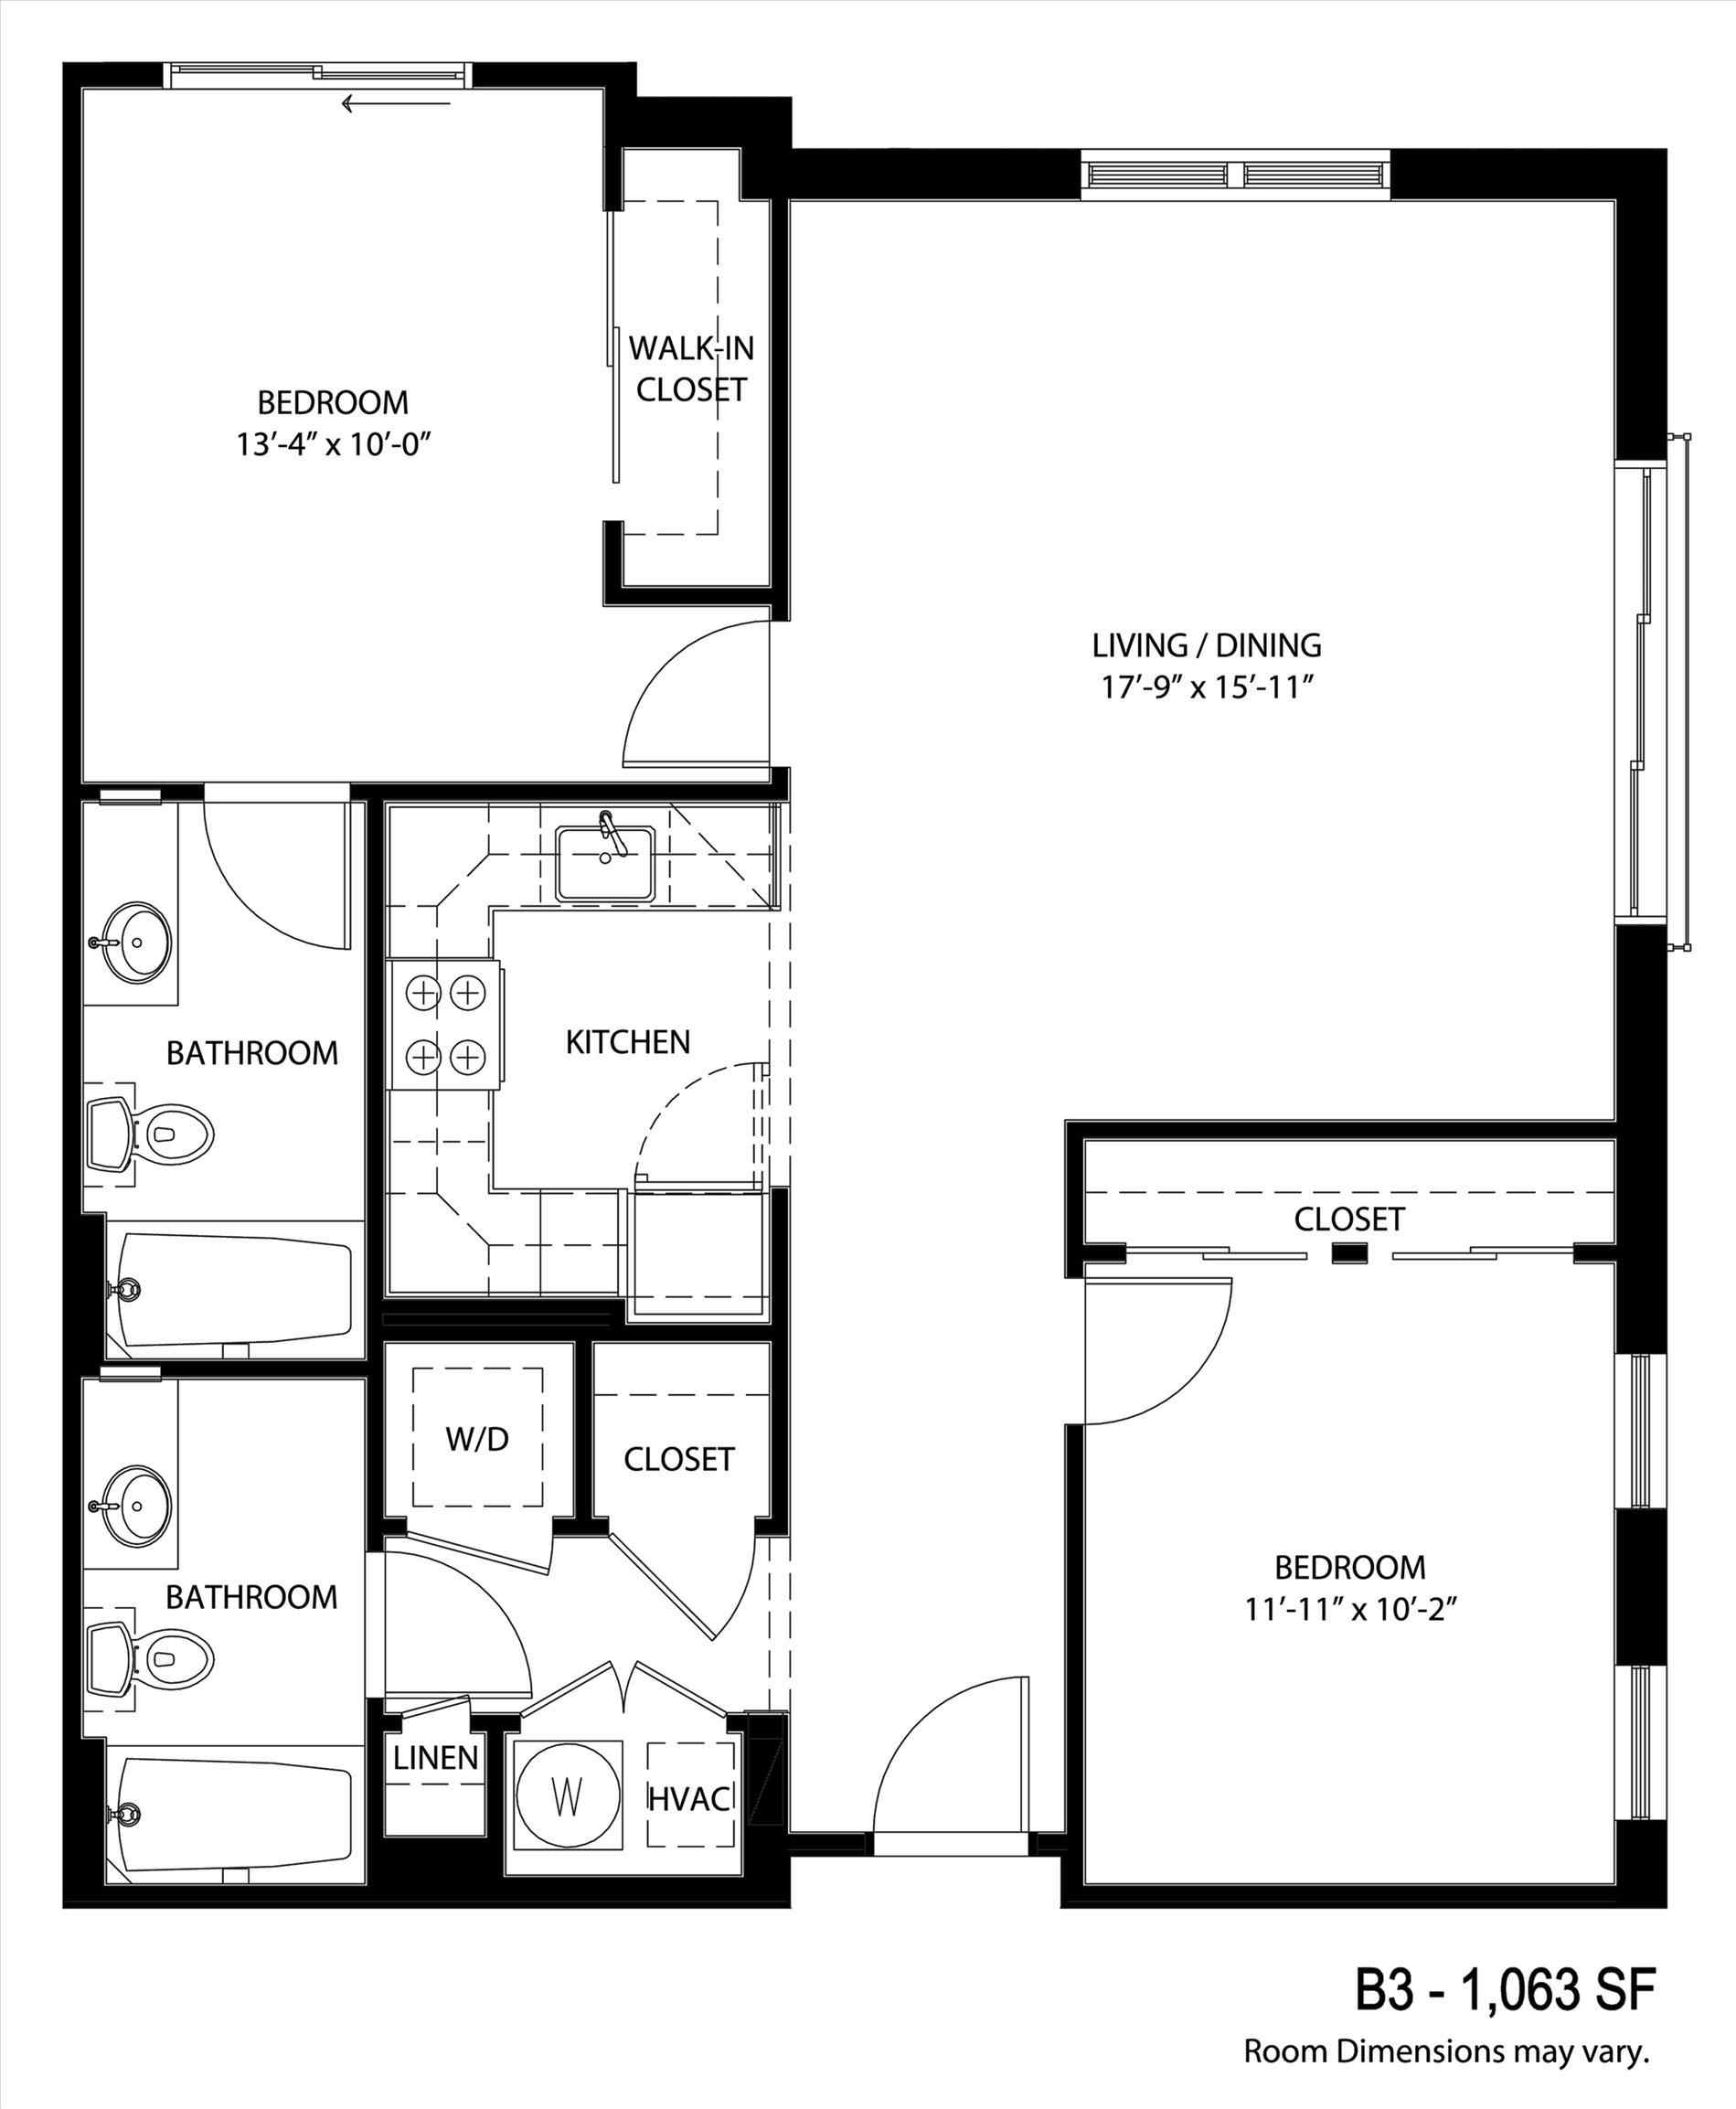door: (871, 1661, 1044, 1825), (186, 806, 359, 969), (590, 617, 762, 779), (1093, 1266, 1244, 1435), (590, 1538, 781, 1659), (403, 1573, 545, 1699), (536, 1654, 708, 1734)
